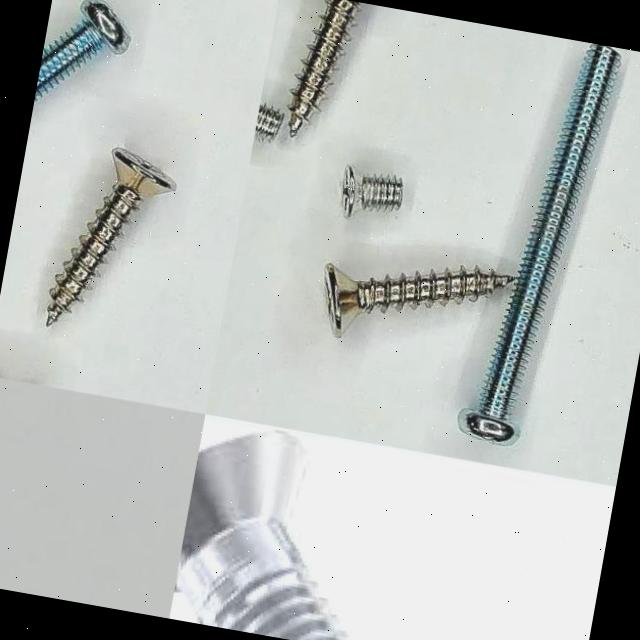Screw: (459, 43, 620, 445), (173, 427, 355, 640), (46, 150, 176, 327), (324, 263, 515, 336), (34, 0, 129, 101), (288, 0, 358, 136), (341, 165, 403, 218), (254, 103, 284, 140)
